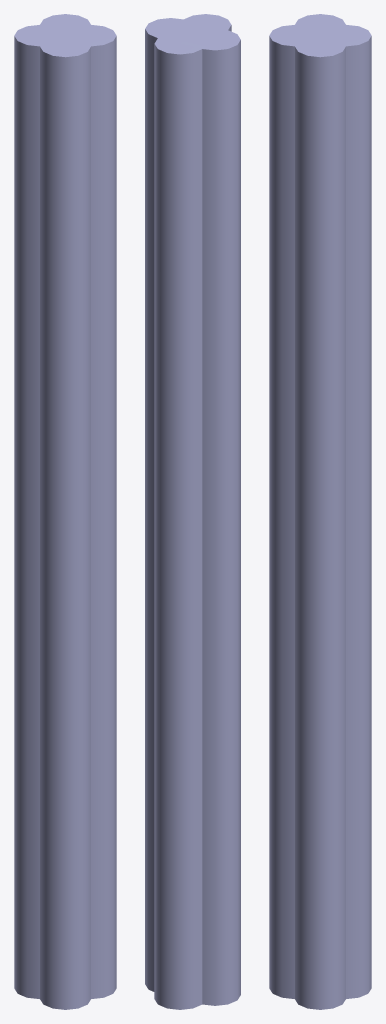
Rendered from Pillar_02_x3_Center_Lod0.fbx.
The picture shows the model from 3 angles, left to right: view 1: azimuth 90°, elevation 25°; view 2: azimuth 150°, elevation 25°; view 3: azimuth 270°, elevation 25°; orthographic projection.
Visible parts, largest first — view 1: Pillar_02_x3_Center_Lod0; view 2: Pillar_02_x3_Center_Lod0; view 3: Pillar_02_x3_Center_Lod0.
Part boxes in pixels (x1,y1,x2,y2): Pillar_02_x3_Center_Lod0: (14,14,116,1009); Pillar_02_x3_Center_Lod0: (145,14,240,1009); Pillar_02_x3_Center_Lod0: (269,14,371,1009).
Bounding box in the file's own units: 85.11 × 874 × 85.23.
